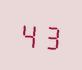four: (19, 18, 39, 49)
three: (40, 19, 60, 51)
